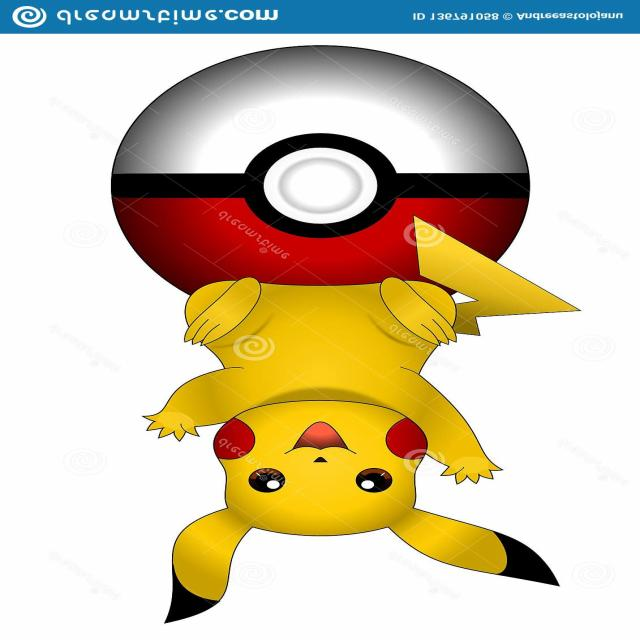Pikachu: (57, 215, 625, 624)
